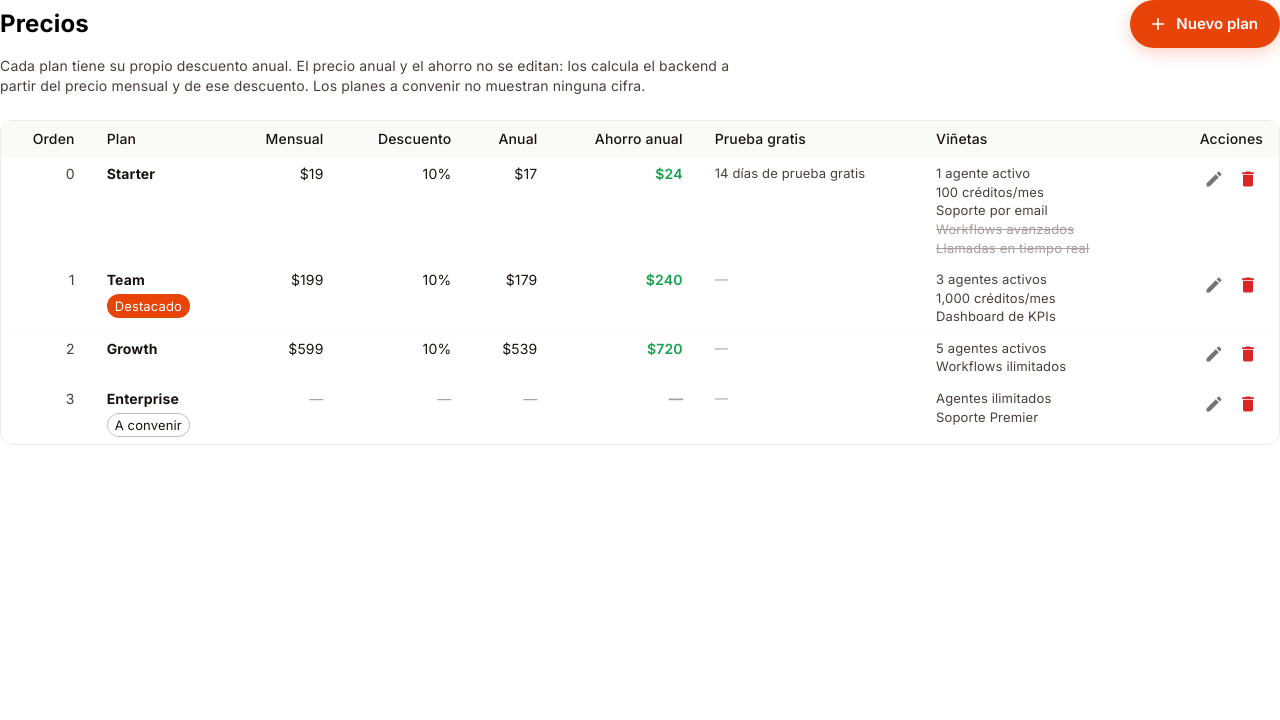
Test case: PricesList — edición › el diálogo de un plan a convenir no calcula cifras ni deja editar precio ni descuento
The width and height of the screenshot is (1280, 720).
Expected: the text "Enterprise" is shown, [107,390,179,407]
Click the button named "Editar Enterprise". click: click(1214, 404)
box: [1199,389,1229,419]
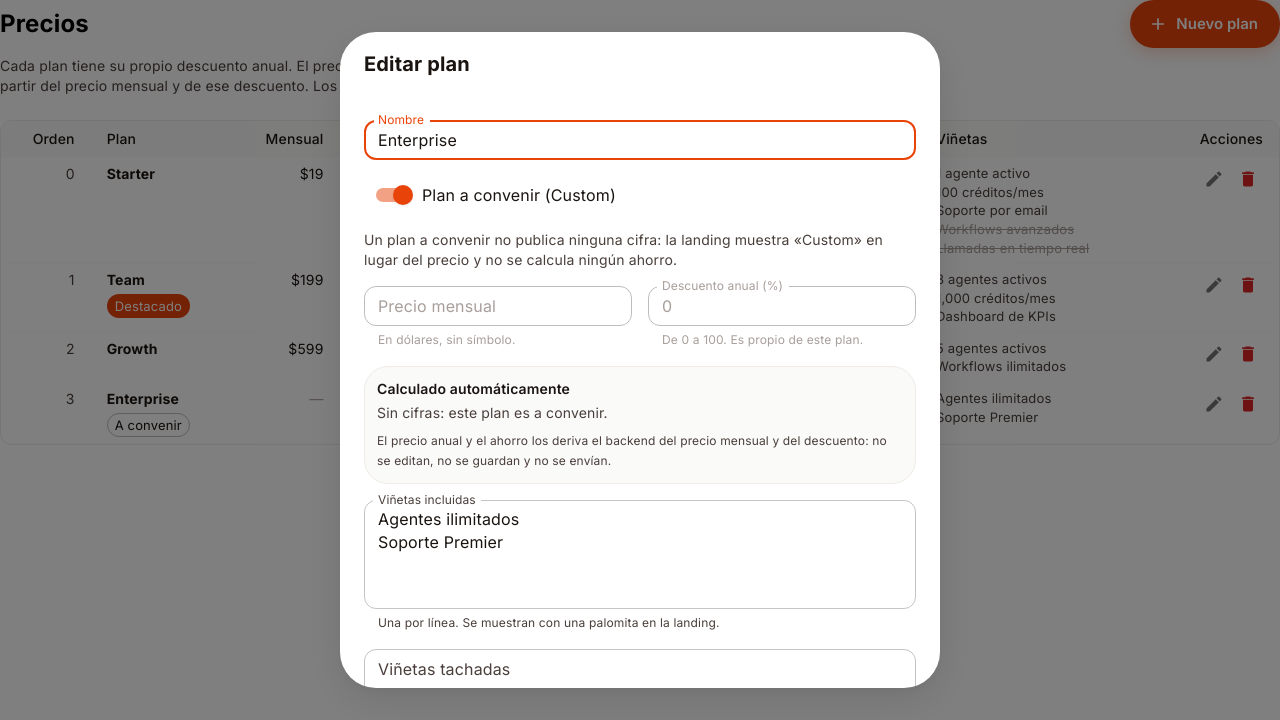
Expected: the field labelled "Precio mensual" is disabled, [364,286,632,326]
Expected: the field labelled "Descuento anual" is disabled, [648,286,916,326]
Expected: the field labelled "Precio mensual" is empty, [364,286,632,326]
